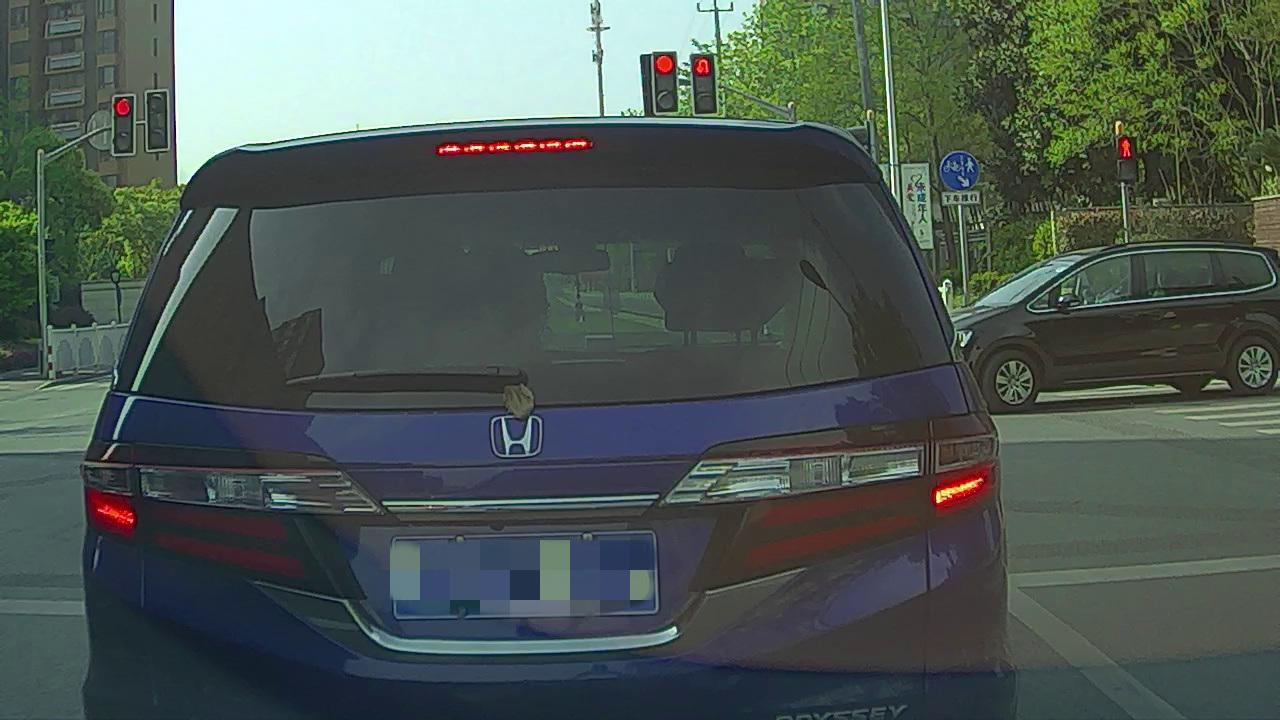traffic_light: (692, 55, 717, 115), (653, 54, 677, 115), (146, 91, 167, 153), (113, 96, 134, 157)
